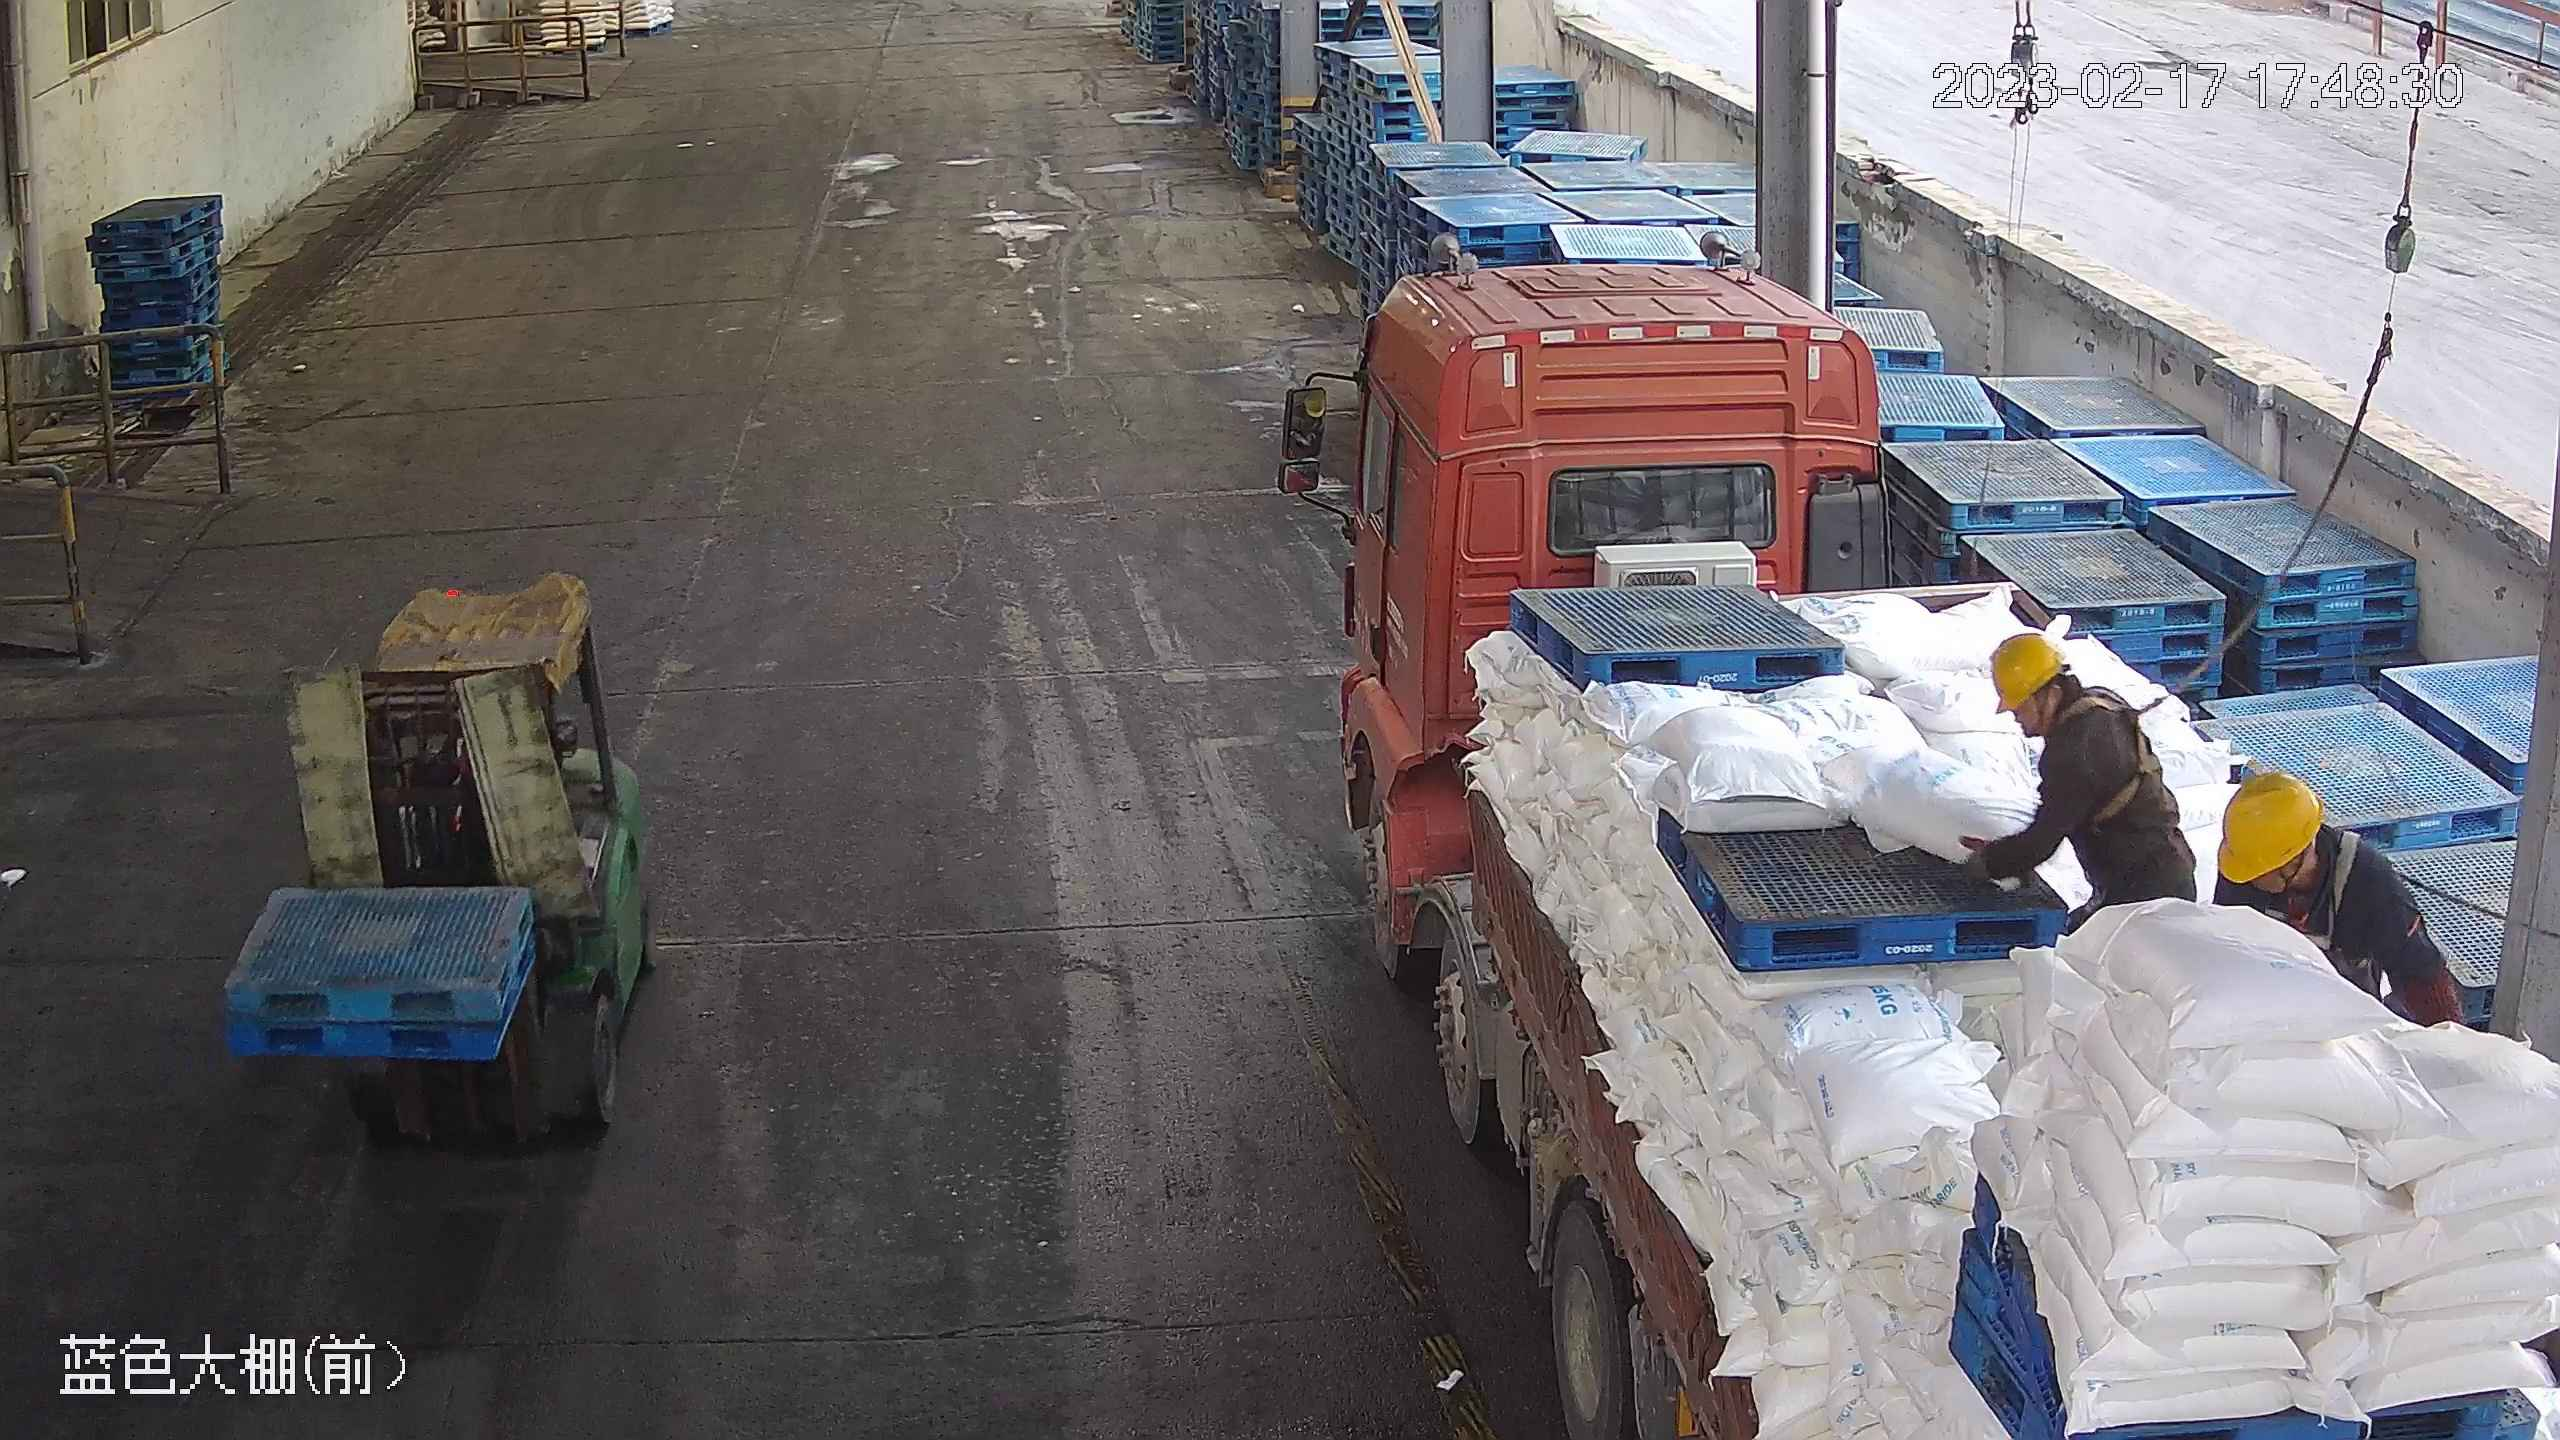belt: (2278, 829, 2435, 955), (2046, 688, 2178, 824)
head: (2209, 765, 2423, 922), (1989, 629, 2151, 769)
helmet: (2211, 767, 2327, 882), (1986, 629, 2068, 712)
people: (1957, 629, 2201, 922)
truck: (1279, 244, 2558, 1440)
